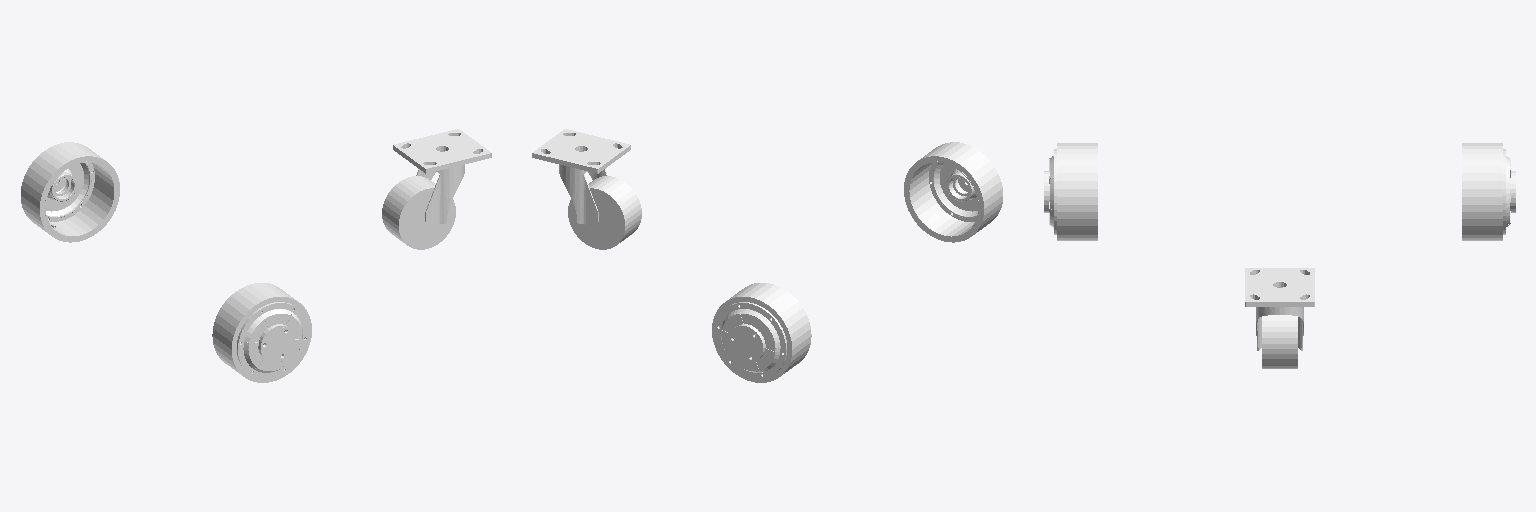
The robot description file, URDF, robot "sunny":
<?xml version="1.0" encoding="utf-8"?>
<!-- This URDF was automatically created by SolidWorks to URDF Exporter! Originally created by [author] ([email redacted]) 
     Commit Version: 1.5.0-0-g9aa0fdb  Build Version: 1.5.7004.21443
     For more information, please see http://wiki.ros.org/sw_urdf_exporter -->
<robot
  name="sunny">
  <link
    name="base_link">
    <inertial>
      <origin
        xyz="0.20582 0.0014686 0.56216"
        rpy="0 0 0" />
      <mass
        value="15.712" />
      <inertia
        ixx="0.93576"
        ixy="-0.0015797"
        ixz="0.071338"
        iyy="0.52524"
        iyz="0.00094839"
        izz="1.0195" />
    </inertial>
    <visual>
      <origin
        xyz="0 0 0"
        rpy="0 0 0" />
      <geometry>
        <mesh
          filename="package://sunny_gazebo/meshes/base_link.STL" />
      </geometry>
      <material
        name="">
        <color
          rgba="0.75294 0.75294 0.75294 1" />
      </material>
    </visual>
    <collision>
      <origin
        xyz="0 0 0"
        rpy="0 0 0" />
      <geometry>
        <mesh
          filename="package://sunny_gazebo/meshes/base_link.STL" />
      </geometry>
    </collision>
  </link>
  <link
    name="universal_wheel_link">
    <inertial>
      <origin
        xyz="-0.0015321 -3.3133E-08 -0.012795"
        rpy="0 0 0" />
      <mass
        value="0.10446" />
      <inertia
        ixx="0.00013522"
        ixy="-3.8014E-11"
        ixz="-1.2947E-05"
        iyy="0.00015124"
        iyz="-2.1959E-10"
        izz="0.00018481" />
    </inertial>
    <visual>
      <origin
        xyz="0 0 0"
        rpy="0 0 0" />
      <geometry>
        <mesh
          filename="package://sunny_gazebo/meshes/universal_wheel_link.STL" />
      </geometry>
      <material
        name="">
        <color
          rgba="1 1 1 1" />
      </material>
    </visual>
    <collision>
      <origin
        xyz="0 0 0"
        rpy="0 0 0" />
      <geometry>
        <mesh
          filename="package://sunny_gazebo/meshes/universal_wheel_link.STL" />
      </geometry>
    </collision>
  </link>
  <joint
    name="joint_uw"
    type="continuous">
    <origin
      xyz="0.48 0 0.077"
      rpy="0 0 0" />
    <parent
      link="base_link" />
    <child
      link="universal_wheel_link" />
    <axis
      xyz="0 0 1" />
    <safety_controller
      k_velocity="0" />
  </joint>
  <link
    name="front_wheel_link">
    <inertial>
      <origin
        xyz="5.5511E-17 5.7406E-20 -3.4694E-18"
        rpy="0 0 0" />
      <mass
        value="0.3927" />
      <inertia
        ixx="0.00032725"
        ixy="-2.2442E-20"
        ixz="2.0493E-37"
        iyy="0.00049087"
        iyz="8.35E-21"
        izz="0.00032725" />
    </inertial>
    <visual>
      <origin
        xyz="0 0 0"
        rpy="0 0 0" />
      <geometry>
        <mesh
          filename="package://sunny_gazebo/meshes/front_wheel_link.STL" />
      </geometry>
      <material
        name="">
        <color
          rgba="1 1 1 1" />
      </material>
    </visual>
    <collision>
      <origin
        xyz="0 0 0"
        rpy="0 0 0" />
      <geometry>
        <mesh
          filename="package://sunny_gazebo/meshes/front_wheel_link.STL" />
      </geometry>
    </collision>
  </link>
  <joint
    name="joint_fw"
    type="continuous">
    <origin
      xyz="-0.0405 0 -0.097"
      rpy="0 0 0" />
    <parent
      link="universal_wheel_link" />
    <child
      link="front_wheel_link" />
    <axis
      xyz="0 1 0" />
    <safety_controller
      k_velocity="0" />
  </joint>
  <link
    name="left_wheel_link">
    <inertial>
      <origin
        xyz="-1.0479E-14 0.0084162 -7.8679E-16"
        rpy="0 0 0" />
      <mass
        value="0.31181" />
      <inertia
        ixx="0.00063103"
        ixy="9.1891E-18"
        ixz="-8.4716E-19"
        iyy="0.0011244"
        iyz="6.318E-18"
        izz="0.00063103" />
    </inertial>
    <visual>
      <origin
        xyz="0 0 0"
        rpy="0 0 0" />
      <geometry>
        <mesh
          filename="package://sunny_gazebo/meshes/left_wheel_link.STL" />
      </geometry>
      <material
        name="">
        <color
          rgba="1 1 1 1" />
      </material>
    </visual>
    <collision>
      <origin
        xyz="0 0 0"
        rpy="0 0 0" />
      <geometry>
        <mesh
          filename="package://sunny_gazebo/meshes/left_wheel_link.STL" />
      </geometry>
    </collision>
  </link>
  <joint
    name="joint_lw"
    type="continuous">
    <origin
      xyz="0 0.289 0"
      rpy="0 0 0" />
    <parent
      link="base_link" />
    <child
      link="left_wheel_link" />
    <axis
      xyz="0 1 0" />
    <safety_controller
      k_velocity="0" />
  </joint>
  <link
    name="right_wheel_link">
    <inertial>
      <origin
        xyz="-1.0479E-14 -0.0084162 -7.8679E-16"
        rpy="0 0 0" />
      <mass
        value="0.31181" />
      <inertia
        ixx="0.00063103"
        ixy="-9.1891E-18"
        ixz="-8.4716E-19"
        iyy="0.0011244"
        iyz="-6.318E-18"
        izz="0.00063103" />
    </inertial>
    <visual>
      <origin
        xyz="0 0 0"
        rpy="0 0 0" />
      <geometry>
        <mesh
          filename="package://sunny_gazebo/meshes/right_wheel_link.STL" />
      </geometry>
      <material
        name="">
        <color
          rgba="1 1 1 1" />
      </material>
    </visual>
    <collision>
      <origin
        xyz="0 0 0"
        rpy="0 0 0" />
      <geometry>
        <mesh
          filename="package://sunny_gazebo/meshes/right_wheel_link.STL" />
      </geometry>
    </collision>
  </link>
  <joint
    name="joint_rw"
    type="continuous">
    <origin
      xyz="0 -0.289 0"
      rpy="0 0 0" />
    <parent
      link="base_link" />
    <child
      link="right_wheel_link" />
    <axis
      xyz="0 1 0" />
    <safety_controller
      k_velocity="0" />
  </joint>
</robot>

--- What the picture shows (computed from the rendered views, not written in the file) ---
3 views of the same robot in one strip: view 1: azimuth 30°, elevation 25°; view 2: azimuth 150°, elevation 25°; view 3: azimuth 270°, elevation 25° (orthographic).
Robot: sunny — 5 links, 4 joints (4 continuous); root link base_link; default pose: all joints at 0.
Visible links, largest first — view 1: right_wheel_link, left_wheel_link, universal_wheel_link, front_wheel_link; view 2: left_wheel_link, right_wheel_link, universal_wheel_link, front_wheel_link; view 3: right_wheel_link, left_wheel_link, universal_wheel_link, front_wheel_link.
Link boxes in pixels (box(x1,y1,x2,y2)): right_wheel_link: box(212, 283, 311, 382); left_wheel_link: box(21, 142, 119, 242); universal_wheel_link: box(393, 129, 491, 225); front_wheel_link: box(382, 176, 455, 249); left_wheel_link: box(712, 283, 811, 382); right_wheel_link: box(904, 142, 1002, 242); universal_wheel_link: box(532, 129, 630, 225); front_wheel_link: box(568, 176, 641, 249); right_wheel_link: box(1044, 143, 1097, 240); left_wheel_link: box(1462, 143, 1515, 240); universal_wheel_link: box(1245, 268, 1314, 350); front_wheel_link: box(1262, 315, 1297, 368).
Size in the robot's own frame: 0.6075 by 0.6724 by 0.1468 metres.
4 mesh visuals loaded from 5 distinct referenced files (4 binary STL); not drawn: 1 (reference not matched to a file when rendering).
